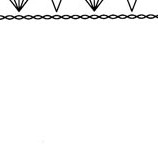double treble: (79, 0, 158, 35), (0, 2, 80, 36)
